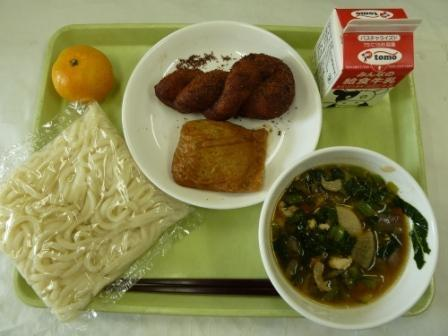Bread: (153, 56, 298, 124)
Citrus: (46, 43, 131, 108)
Milk: (307, 5, 419, 111)
Soups: (264, 154, 422, 315)
Udon: (0, 113, 173, 321)
pastry: (168, 120, 277, 196)
